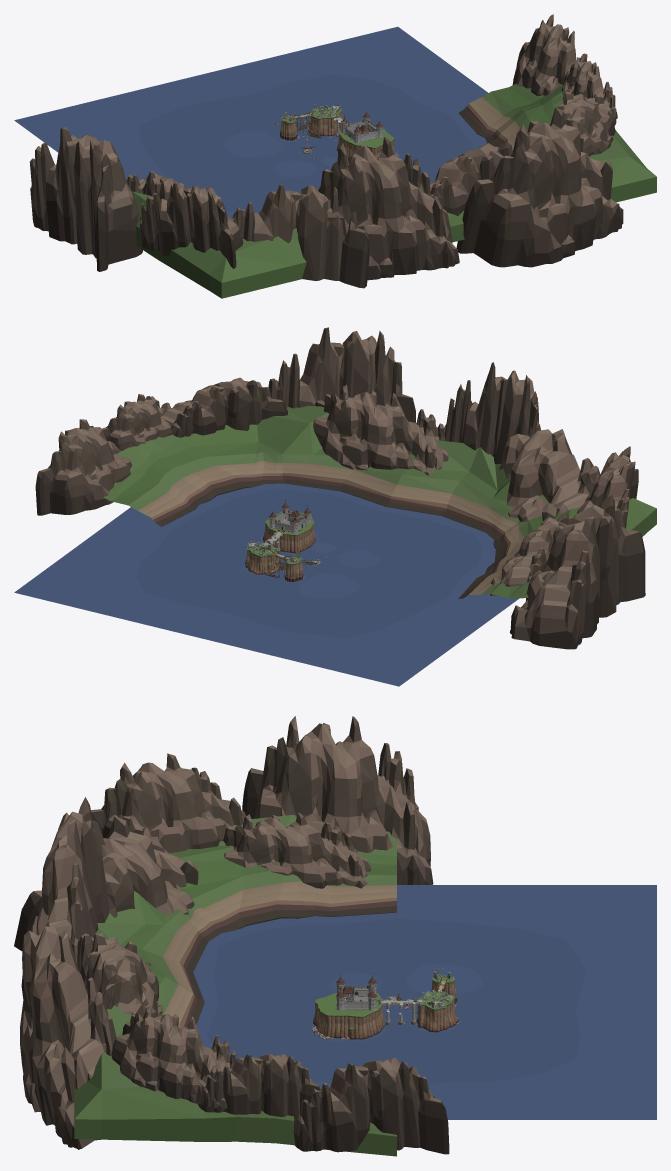
The model's file is narrowRuinsAlt.glb.
3 views of the same model, one above another, from view 1: azimuth 30°, elevation 25°; view 2: azimuth 150°, elevation 25°; view 3: azimuth 270°, elevation 25° (orthographic). The views are drawn at different scales.
Visible parts, largest first — view 1: sea, Mball.018, hills, Mball.027, Mball.009, Mball.024, Mball.005, Mball.019, Mball.025, Mball.020, CliffBegin.002, Mball.017 (+1 smaller); view 2: sea, hills, Mball.009, Mball.025, Mball.018, Mball.024, Mball.019, Mball.027, Mball.020, Mball.017, Mball.001, CliffBegin.002 (+1 smaller); view 3: sea, hills, Mball.009, Mball.018, Mball.019, Mball.005, Mball.020, Mball.001, Mball.027, Mball.024, Mball.017, Mball.025 (+1 smaller).
Boxes of the visible parts, x1,y1,x2,y2 form: sea: [14, 26, 487, 218]; Mball.018: [456, 107, 623, 267]; hills: [131, 83, 656, 298]; Mball.027: [317, 136, 459, 280]; Mball.009: [29, 127, 142, 271]; Mball.024: [230, 184, 369, 288]; Mball.005: [139, 181, 243, 268]; Mball.019: [512, 14, 587, 95]; Mball.025: [430, 142, 513, 215]; Mball.020: [557, 91, 617, 156]; CliffBegin.002: [280, 107, 395, 159]; Mball.017: [561, 53, 616, 124]; sea: [14, 483, 519, 686]; hills: [103, 405, 656, 598]; Mball.009: [510, 495, 645, 649]; Mball.025: [313, 385, 449, 475]; Mball.018: [268, 327, 415, 422]; Mball.024: [499, 421, 600, 521]; Mball.019: [35, 419, 132, 515]; Mball.027: [444, 362, 538, 463]; Mball.020: [160, 377, 287, 437]; Mball.017: [101, 394, 172, 450]; Mball.001: [490, 513, 573, 595]; CliffBegin.002: [245, 511, 315, 581]; sea: [193, 885, 656, 1119]; hills: [74, 815, 396, 1156]; Mball.009: [242, 716, 433, 884]; Mball.018: [20, 907, 116, 1149]; Mball.019: [293, 1057, 449, 1154]; Mball.005: [91, 753, 246, 853]; Mball.020: [111, 1006, 235, 1108]; Mball.001: [222, 812, 370, 888]; Mball.027: [21, 797, 112, 998]; Mball.024: [14, 816, 198, 950]; Mball.017: [198, 1054, 322, 1122]; Mball.025: [77, 933, 162, 1017].
Size of what is drawn, in the model's own units: 576 by 155 by 484.
